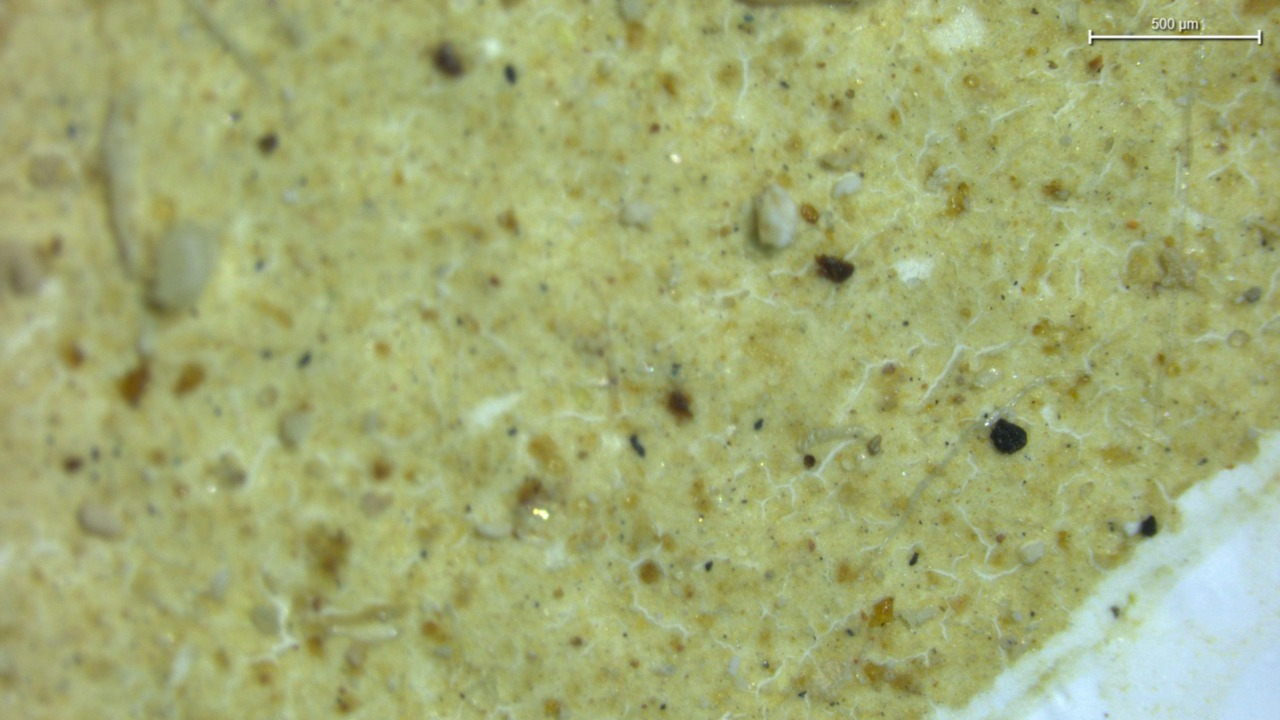microplastic_fragment: (755, 183, 799, 249)
